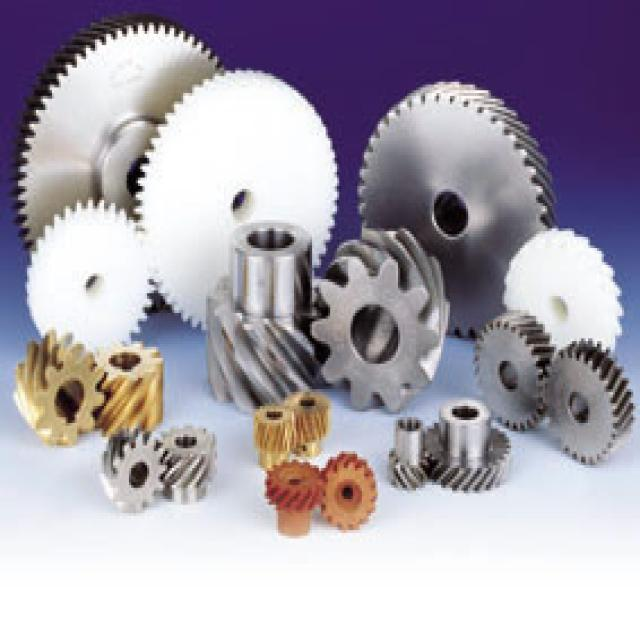Gear: (10, 15, 225, 321), (354, 77, 560, 342), (135, 67, 340, 330), (311, 221, 451, 413), (207, 217, 327, 416), (22, 198, 155, 354), (503, 227, 624, 361), (543, 336, 638, 465), (11, 328, 106, 449), (472, 313, 555, 433), (424, 398, 517, 490), (100, 339, 167, 436), (100, 426, 168, 514), (263, 458, 326, 536), (321, 449, 379, 531), (159, 424, 218, 503), (383, 416, 431, 492), (288, 389, 332, 458), (256, 404, 296, 470)
